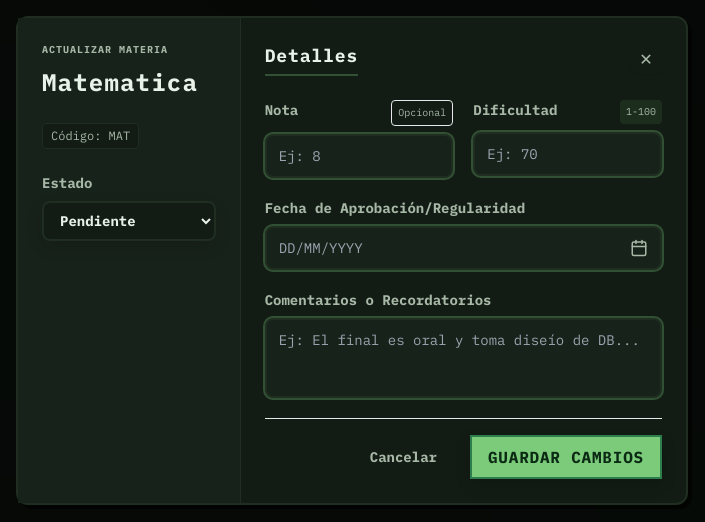
it: SubjectUpdatePanel › debería cerrar la confirmación al hacer clic en Regresar
Select "En curso" in the dropdown at (129, 220), box [42,200,216,240]
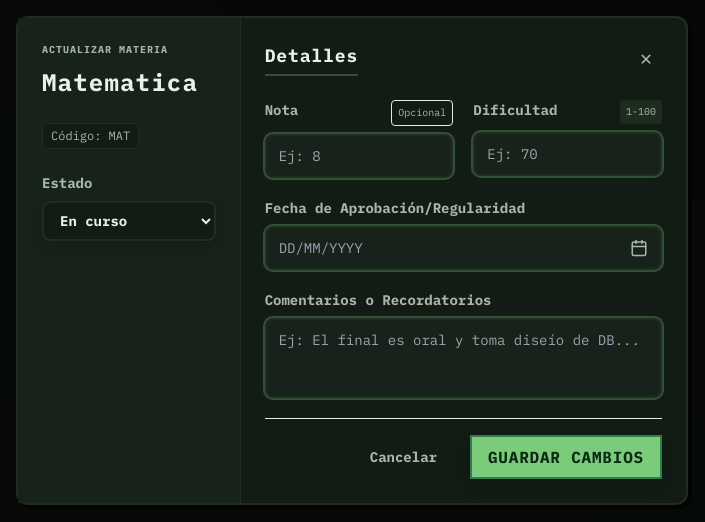
Click the button "Guardar Cambios" at (566, 456), box [470,434,662,478]
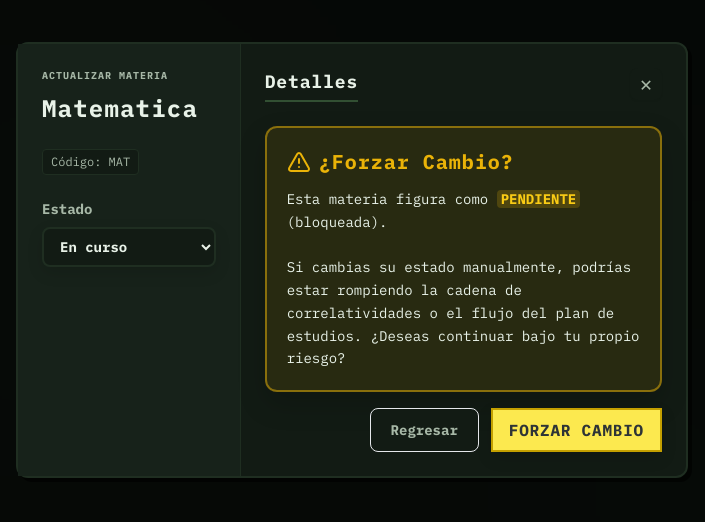
Check: the heading "¿Forzar Cambio?" is shown, box [287,148,514,175]
# Click Regresar
Click the button "Regresar" at (424, 430), box [370,408,479,452]
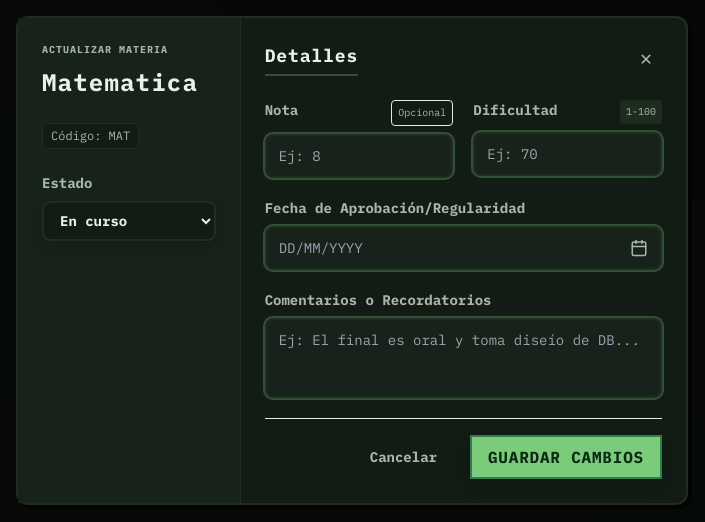
Check: the heading "¿Forzar Cambio?" is gone
